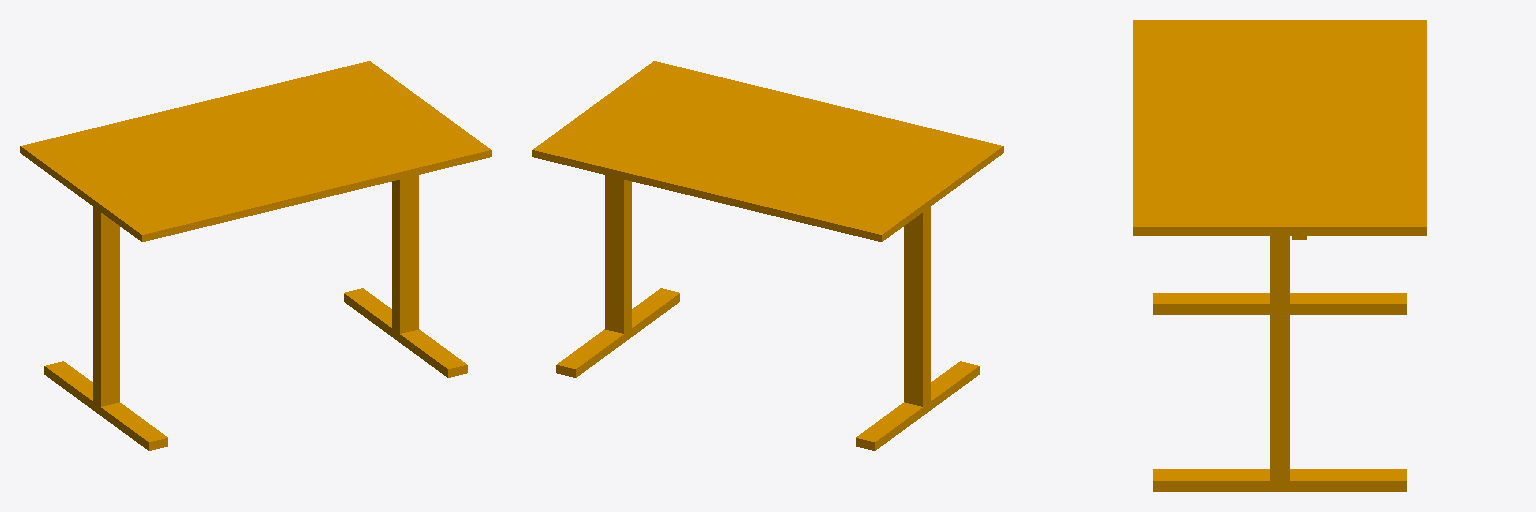
The robot description file, URDF, robot "table":
<robot name="table">
<link name="table"><inertial><origin xyz="0.00000 0.00000 0.76250"/><mass value="40.0"/><inertia ixx="1.908e+00" ixy="0" ixz="0" iyy="5.240e+00" iyz="0" izz="7.144e+00"/></inertial>
<visual><origin xyz="0.00000 0.00000 0.00000" rpy="0.00000 0.00000 0.00000"/><geometry><mesh filename="table_vis.obj"/></geometry></visual>
<collision><origin xyz="0.00000 0.00000 0.76250" rpy="0 0 0"/><geometry><box size="1.25355 0.75624 0.02500"/></geometry></collision>
</link>
</robot>

--- Render facts (derived) ---
Views: 3 orthographic renders of the robot side by side, from view 1: azimuth 30°, elevation 25°; view 2: azimuth 150°, elevation 25°; view 3: azimuth 270°, elevation 25°.
Model table with 1 links and 0 joints (none), rooted at table, posed all joints at 0.
Visible links, largest first — view 1: table; view 2: table; view 3: table.
Boxes of the visible links, box(x1,y1,x2,y2) form: table: box(20, 61, 491, 450); table: box(532, 61, 1003, 450); table: box(1133, 20, 1426, 491).
Bounding box of the posed robot: 1.25 × 0.7562 × 0.775 m (x, y, z).
1 mesh visuals loaded from 1 distinct referenced files (1 OBJ).
